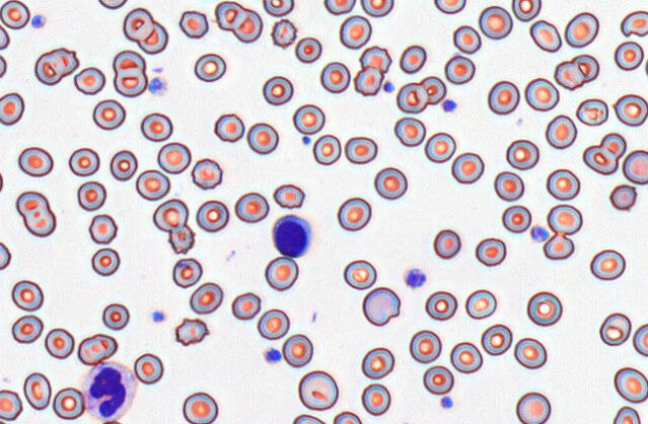GRAN: (79, 358, 139, 419)
LYM: (271, 213, 315, 260)
PLT: (403, 268, 428, 290), (530, 223, 550, 243), (149, 75, 168, 95), (262, 347, 282, 365), (29, 13, 48, 30), (438, 394, 456, 411), (439, 99, 459, 114), (151, 309, 167, 325), (383, 81, 397, 95), (302, 134, 312, 146)
RBC: (214, 0, 262, 43), (15, 190, 56, 237), (112, 49, 148, 97), (34, 47, 78, 85), (297, 370, 338, 410), (77, 333, 117, 365), (564, 11, 599, 47), (526, 291, 562, 326), (613, 366, 647, 403), (152, 198, 188, 232), (264, 256, 298, 291), (524, 77, 559, 111), (478, 5, 512, 39), (337, 197, 371, 231), (182, 391, 218, 423), (515, 391, 551, 423), (157, 141, 191, 174), (189, 281, 223, 314), (52, 386, 85, 420), (195, 199, 229, 232), (373, 166, 407, 199), (613, 93, 647, 126), (122, 7, 154, 42), (545, 114, 577, 149), (234, 191, 269, 223), (582, 144, 618, 175), (589, 249, 625, 280), (361, 346, 394, 379), (339, 15, 371, 49), (599, 312, 631, 346), (409, 329, 441, 363), (513, 337, 547, 369), (546, 168, 580, 200), (487, 80, 519, 114), (135, 169, 170, 200), (547, 204, 582, 235), (18, 146, 53, 177), (23, 372, 51, 410), (451, 152, 484, 184), (449, 341, 482, 373), (529, 19, 561, 52), (137, 20, 168, 54), (282, 333, 313, 367), (505, 139, 539, 170), (424, 131, 456, 163), (246, 122, 278, 154), (480, 323, 512, 355), (11, 279, 43, 311), (292, 103, 325, 134), (92, 99, 125, 130), (396, 82, 428, 113), (257, 308, 289, 339), (361, 383, 391, 416), (343, 259, 376, 289), (424, 290, 457, 320), (174, 317, 208, 346), (191, 158, 222, 189), (493, 170, 524, 201), (44, 327, 74, 359), (320, 61, 350, 93), (393, 116, 425, 146), (133, 352, 163, 384), (422, 365, 454, 395), (194, 52, 226, 82), (353, 65, 383, 96), (172, 257, 202, 288), (444, 54, 475, 84), (262, 75, 293, 105), (465, 289, 496, 319), (73, 66, 105, 95), (11, 314, 43, 343), (140, 112, 172, 141), (344, 136, 377, 164), (554, 60, 584, 90), (614, 40, 644, 70), (213, 113, 244, 142), (312, 134, 341, 165), (68, 147, 99, 176), (475, 237, 506, 266), (77, 180, 106, 211), (359, 45, 391, 73), (542, 232, 574, 260), (109, 149, 137, 181), (576, 98, 608, 126), (622, 149, 647, 184), (88, 214, 117, 244), (0, 0, 30, 29), (452, 24, 481, 54), (501, 204, 531, 233), (433, 228, 461, 259), (91, 247, 120, 276), (571, 53, 599, 83), (167, 224, 195, 254), (231, 292, 261, 320), (178, 10, 208, 38), (270, 18, 297, 48), (273, 183, 304, 209), (0, 92, 24, 125), (609, 183, 637, 211), (101, 302, 129, 330), (419, 75, 446, 104), (399, 44, 426, 73), (294, 36, 322, 63), (0, 389, 22, 421), (600, 132, 626, 159), (511, 0, 541, 21), (360, 0, 394, 17), (612, 405, 641, 423), (262, 0, 294, 16), (632, 323, 647, 356), (323, 0, 355, 14), (434, 0, 466, 14), (332, 411, 361, 423), (292, 413, 325, 423), (0, 241, 11, 270), (98, 0, 127, 9), (0, 24, 9, 49), (0, 54, 7, 78), (101, 419, 122, 424), (0, 171, 3, 192), (645, 56, 648, 76)
Schistocyte: (361, 286, 403, 327), (620, 9, 648, 39)
